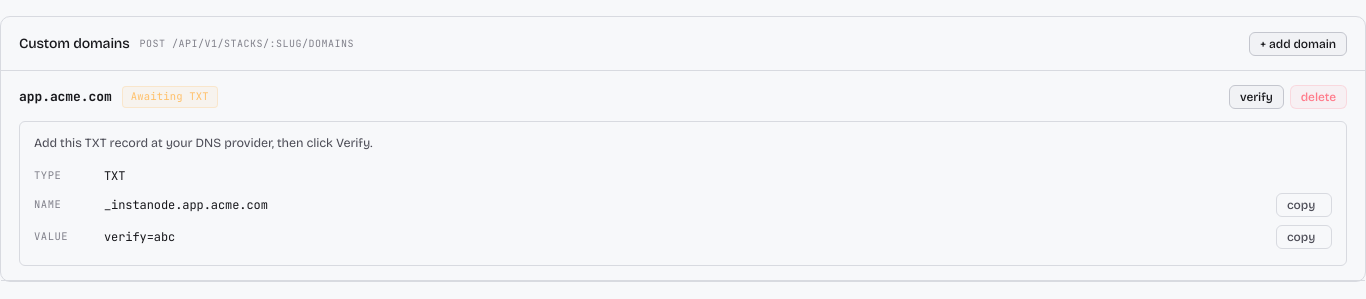
Scenario: CustomDomainPanel — verify / delete › deletes a domain after confirmation
Expected: the text "app.acme.com" is shown, top-left (19, 87), bottom-right (112, 107)
Click the button "delete" at (1318, 97), box top-left (1290, 85), bottom-right (1347, 109)
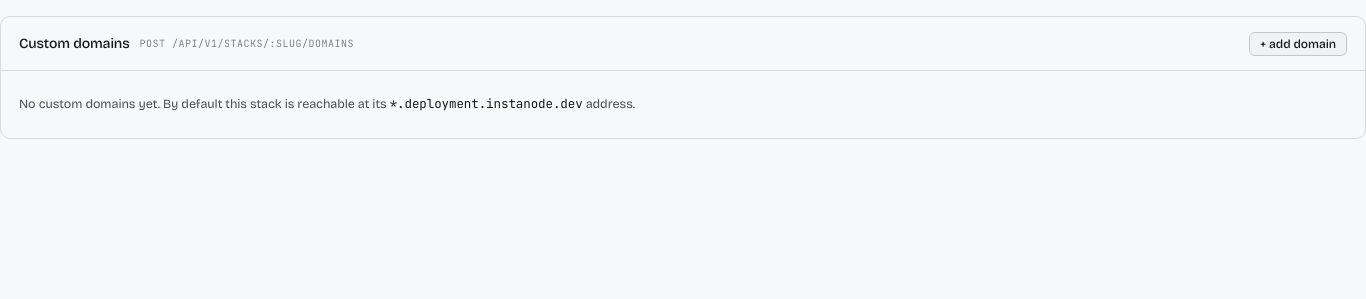
Result: the text "app.acme.com" is gone
